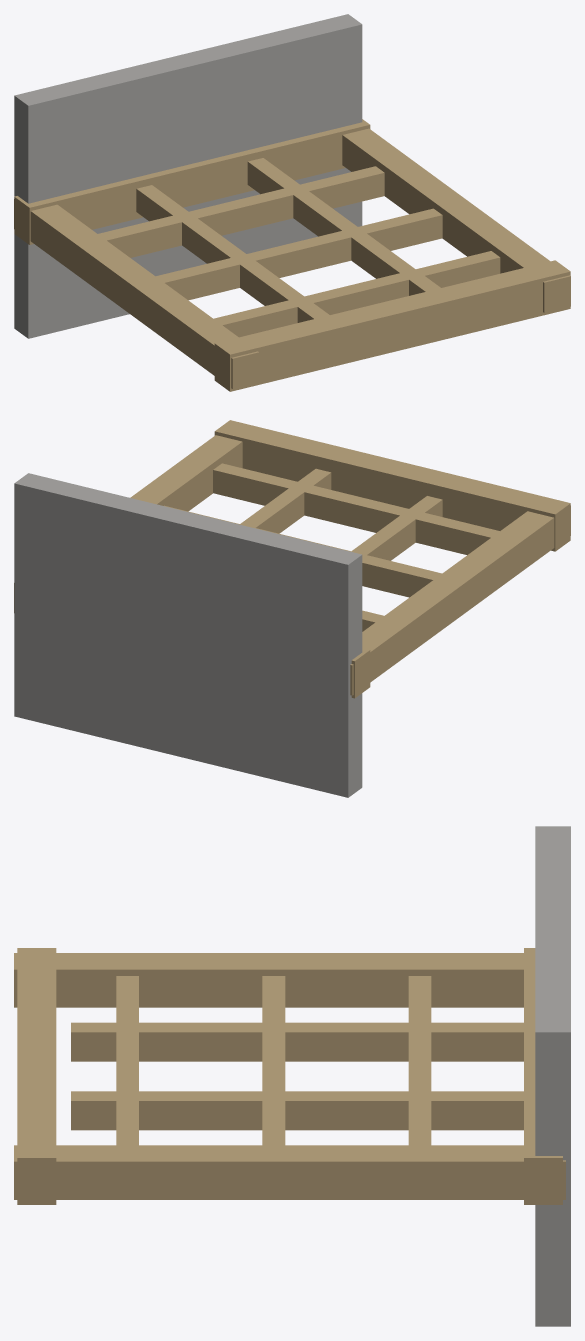
3 views of the same model, one above another, from view 1: azimuth 30°, elevation 25°; view 2: azimuth 150°, elevation 25°; view 3: azimuth 270°, elevation 25° (orthographic). The views are drawn at different scales.
Parts seen in each view (by area): view 1: H03_part_0, H03_part_4, H03_part_1, H03_part_3, H03_part_2, H03_part_7, H03_part_8, H03_part_9, H03_part_5, H03_part_6; view 2: H03_part_0, H03_part_4, H03_part_1, H03_part_9, H03_part_2, H03_part_8, H03_part_6, H03_part_5, H03_part_3; view 3: H03_part_2, H03_part_1, H03_part_0, H03_part_5, H03_part_6, H03_part_4, H03_part_3, H03_part_8, H03_part_7, H03_part_9.
Part boxes in pixels (x1,y1,x2,y2): H03_part_0: (14,14,362,338); H03_part_4: (214,260,570,391); H03_part_1: (14,199,259,388); H03_part_3: (14,119,370,244); H03_part_2: (342,128,570,312); H03_part_7: (98,166,384,257); H03_part_8: (156,208,442,300); H03_part_9: (214,251,500,337); H03_part_5: (136,185,329,322); H03_part_6: (247,158,440,295); H03_part_0: (14,473,362,797); H03_part_4: (214,420,570,551); H03_part_1: (350,505,570,695); H03_part_9: (213,463,499,554); H03_part_2: (14,435,242,612); H03_part_8: (164,505,441,597); H03_part_6: (240,468,331,533); H03_part_5: (351,496,442,560); H03_part_3: (351,648,370,698); H03_part_2: (14,1145,565,1199); H03_part_1: (14,953,523,1007); H03_part_0: (535,826,570,1326); H03_part_5: (71,1022,523,1061); H03_part_6: (71,1091,523,1130); H03_part_4: (17,948,56,1204); H03_part_3: (524,948,562,1204); H03_part_8: (262,976,285,1145); H03_part_7: (408,976,431,1145); H03_part_9: (116,976,138,1145).
Size of the model in its own units: 1.53 by 1 by 1.72.
